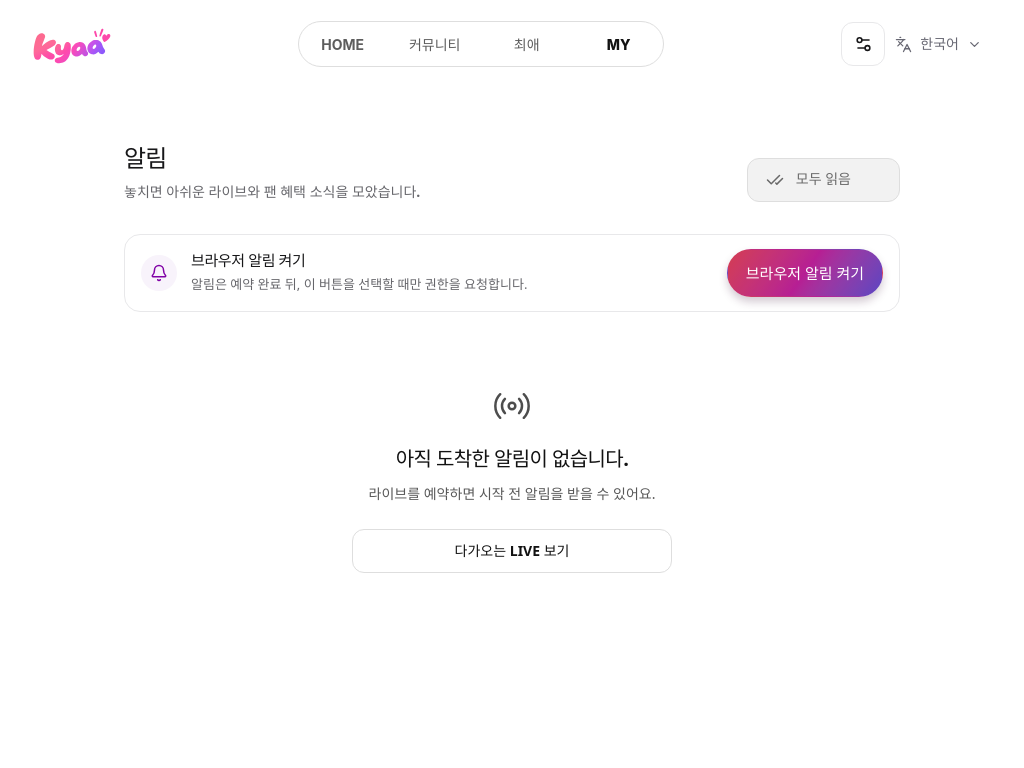
Test: FAN-019 Notification Center › announces the unsupported push result
Expected: the heading "아직 도착한 알림이 없습니다." is shown, [396, 446, 628, 471]
Click the button "브라우저 알림 켜기" at coordinates (805, 273), box [727, 249, 883, 297]
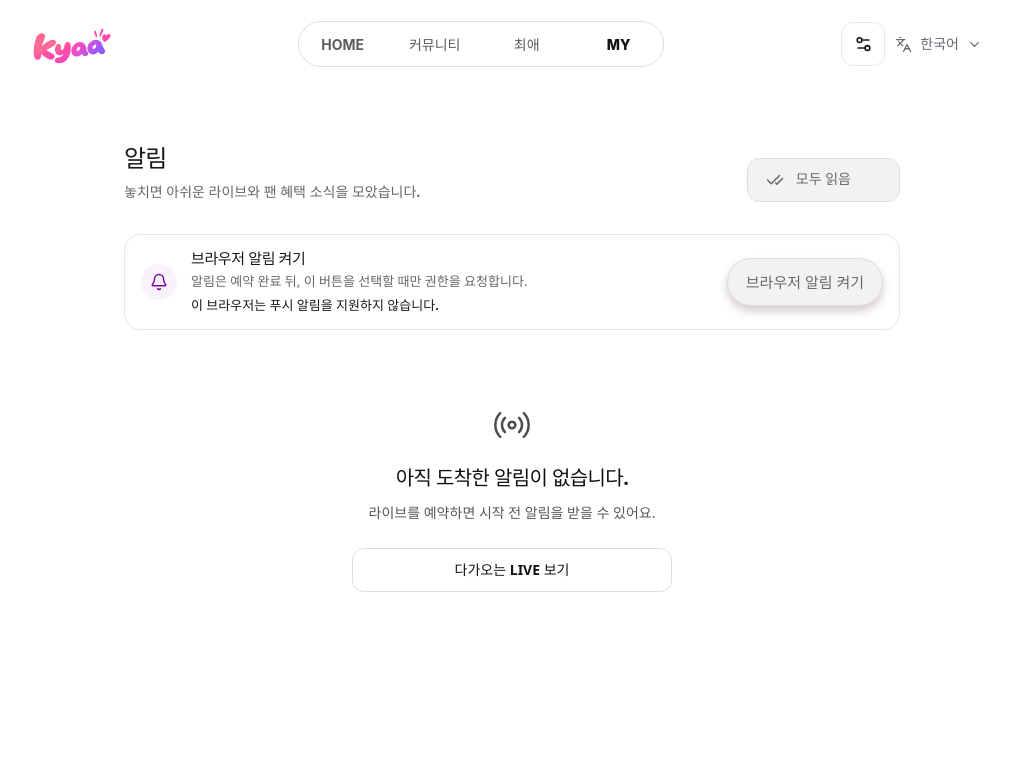
Expected: the text "이 브라우저는 푸시 알림을 지원하지 않습니다." is shown, [191, 296, 439, 314]
